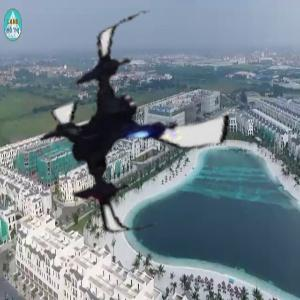drone: (25, 13, 248, 236)
